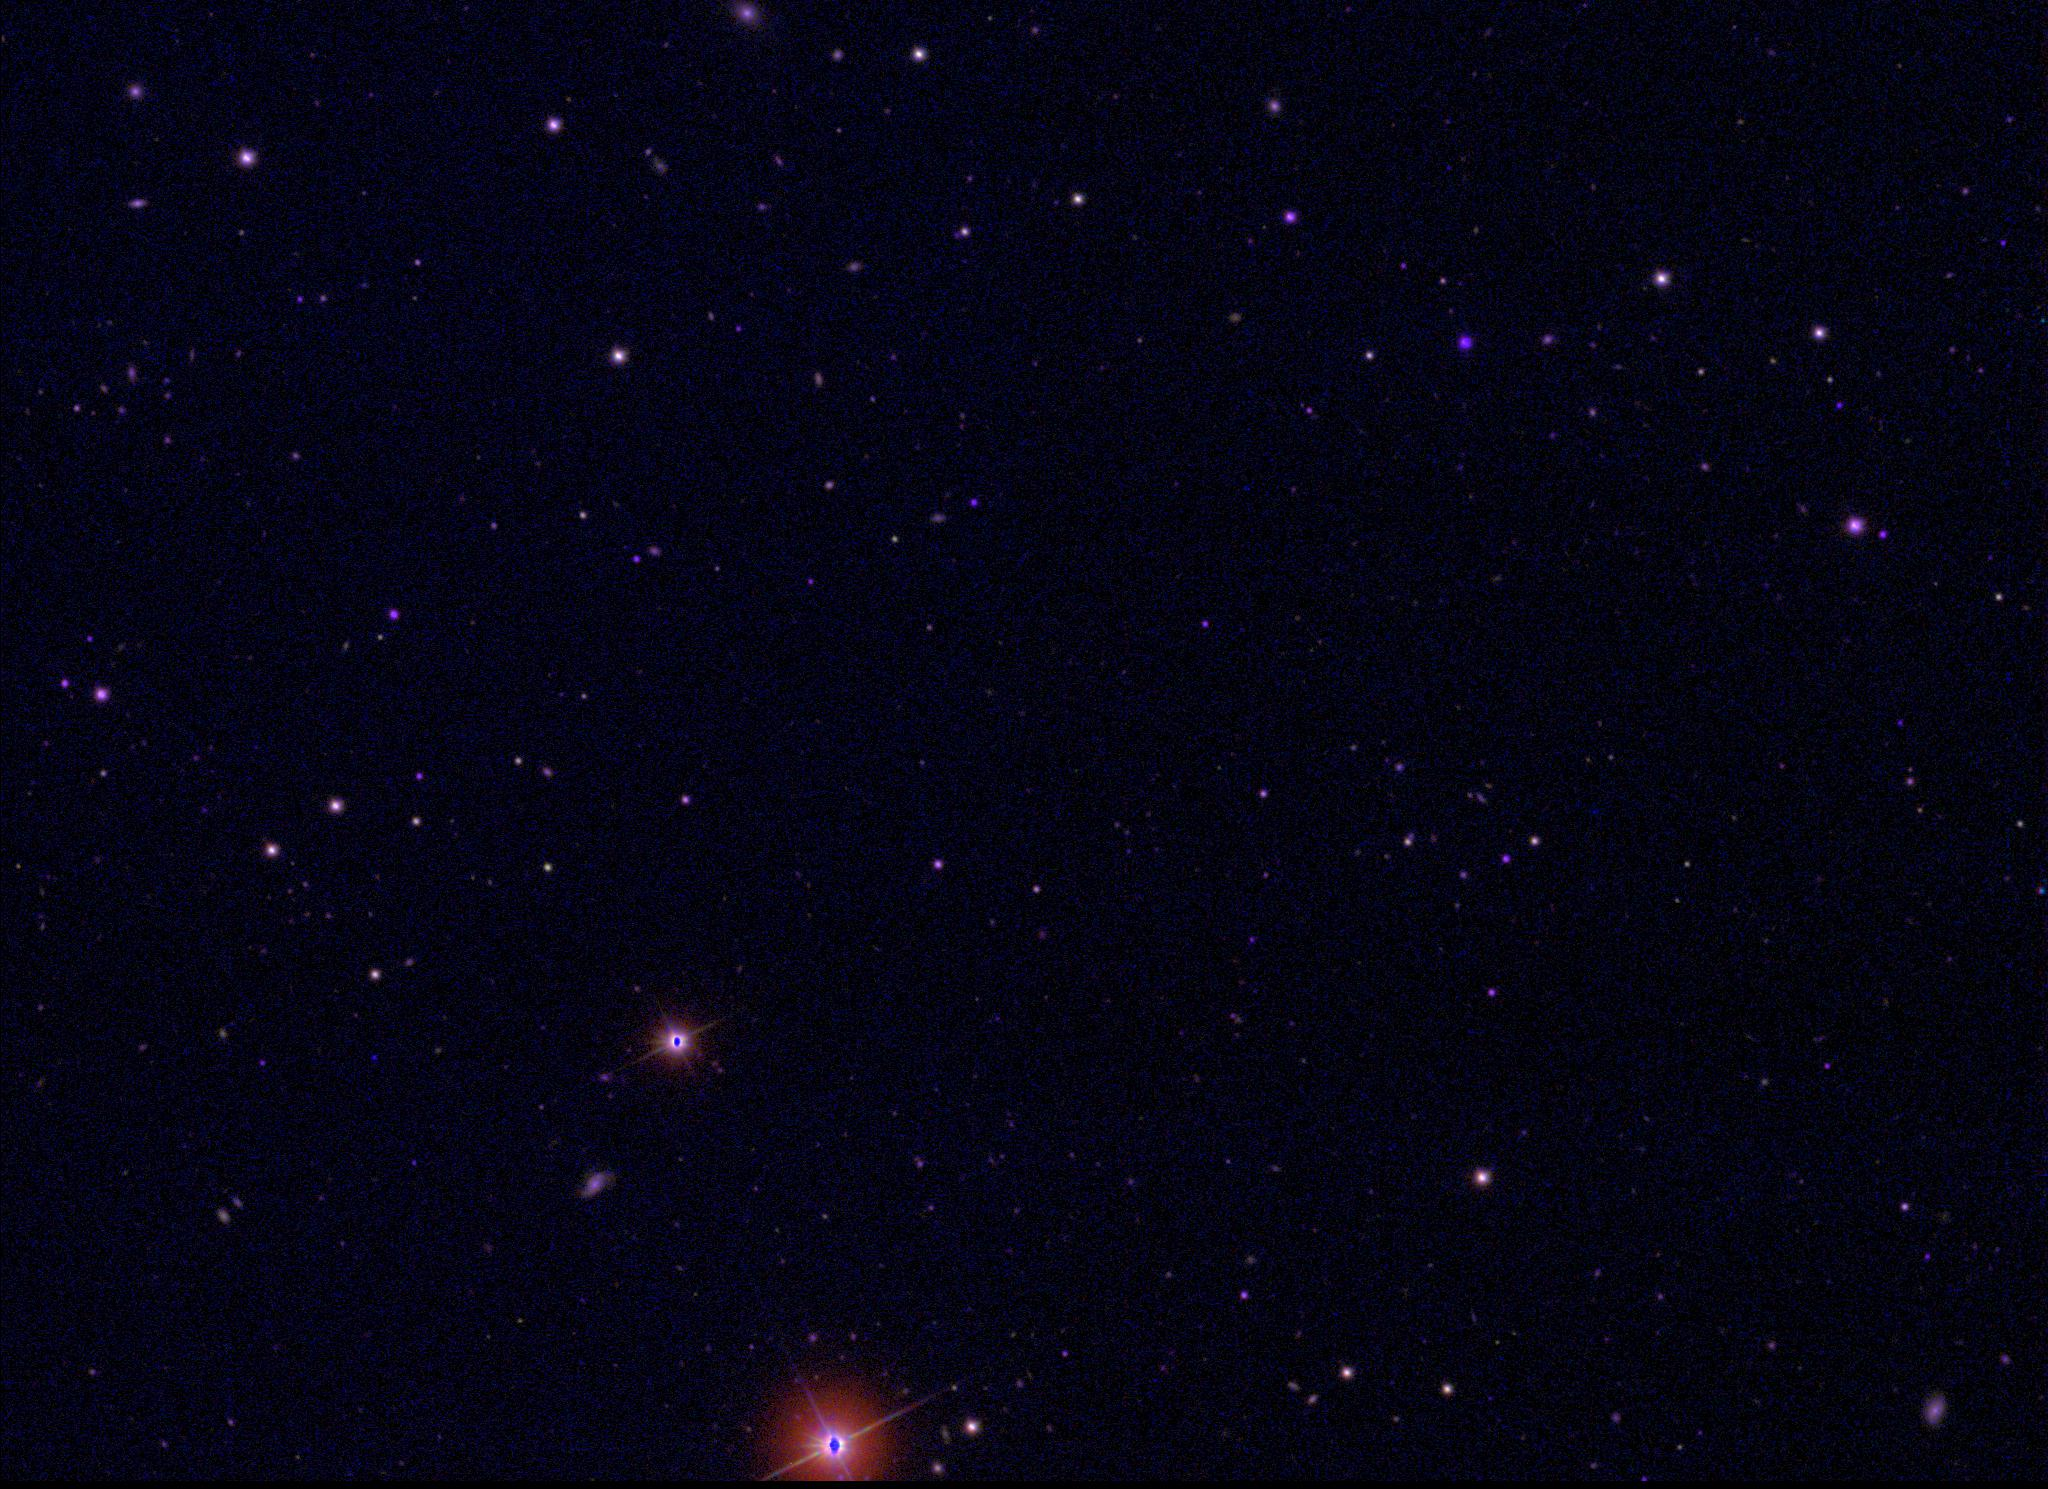L: (367, 1050, 382, 1064)
